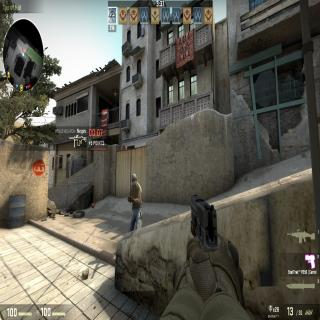T-Body: (128, 173, 142, 230)
T-Head: (130, 172, 137, 187)
